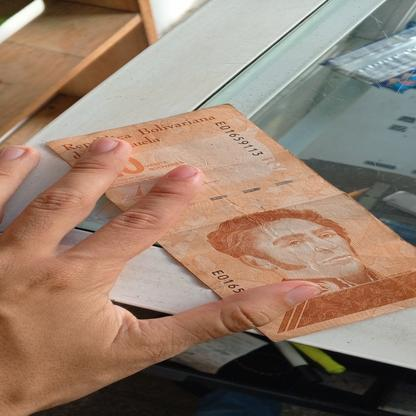vef_front: (46, 105, 416, 342)
